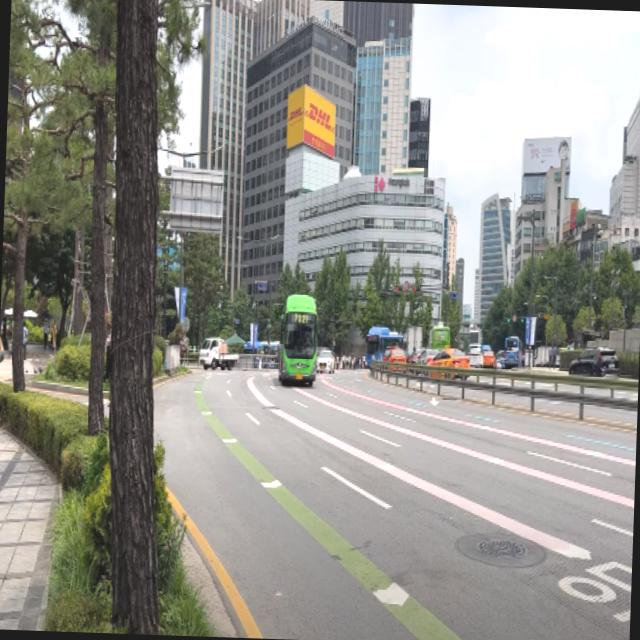bus-number: (293, 312, 308, 324)
